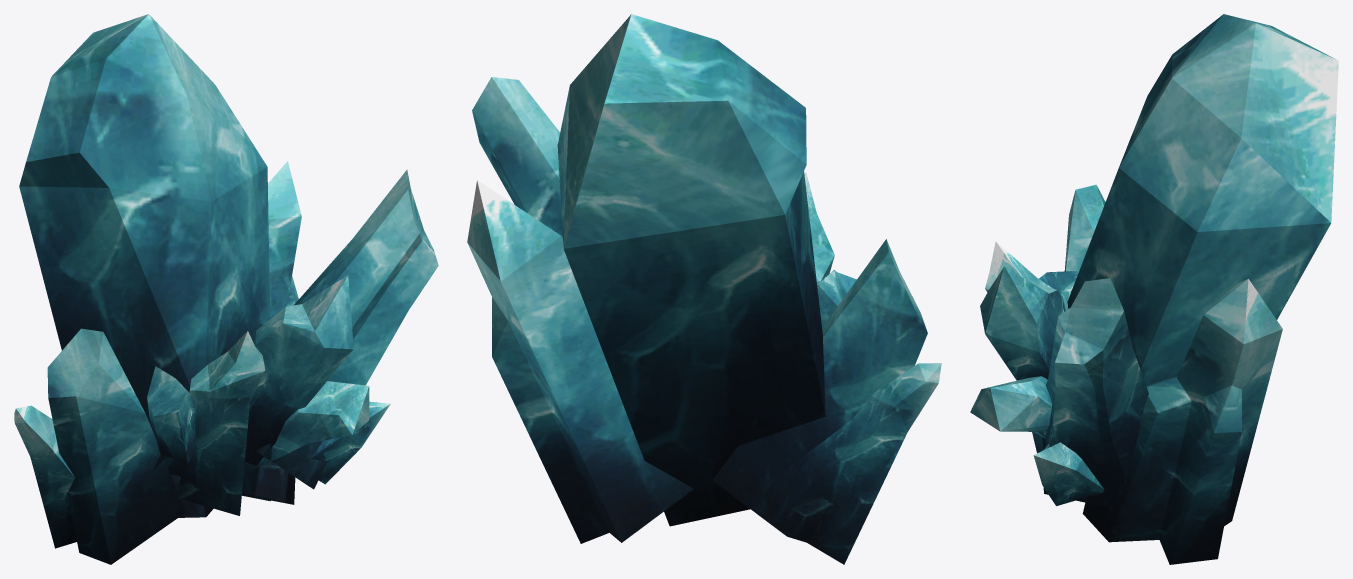
Rendered from environment_stone_shuijing_001_g.FBX.
3 renders of one model, left to right at view 1: azimuth 30°, elevation 25°; view 2: azimuth 150°, elevation 25°; view 3: azimuth 270°, elevation 25°, orthographic. The views are drawn at different scales.
Visible parts, largest first — view 1: environment_stone_shuijing_001_g; view 2: environment_stone_shuijing_001_g; view 3: environment_stone_shuijing_001_g.
Part boxes in pixels (bbox=[...]): environment_stone_shuijing_001_g: bbox=[14, 14, 438, 564]; environment_stone_shuijing_001_g: bbox=[467, 14, 941, 564]; environment_stone_shuijing_001_g: bbox=[970, 14, 1338, 564].
Size of the model in its own units: 239 by 273 by 181.
1 material, 1 textured.
